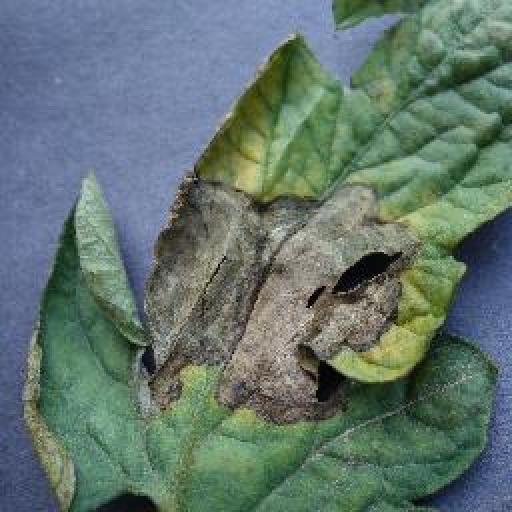Late Blight: (17, 0, 512, 512)
